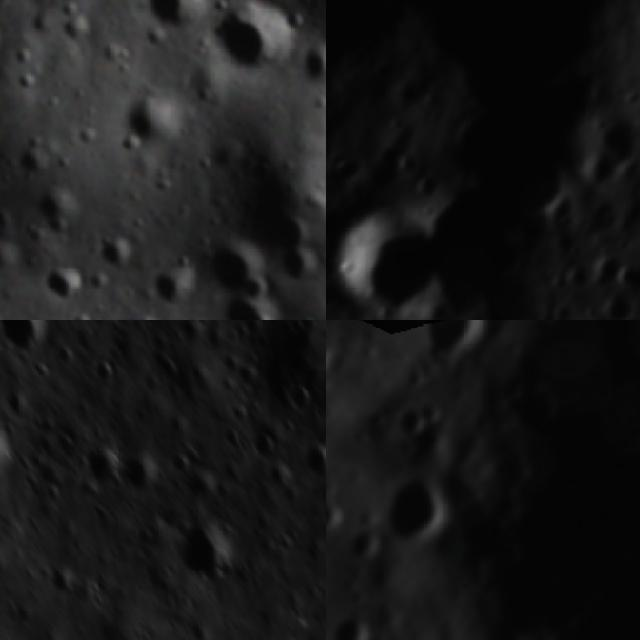crater: (326, 176, 460, 320), (359, 455, 468, 561), (559, 92, 640, 199), (399, 320, 516, 391), (214, 0, 294, 85), (175, 510, 247, 592), (195, 236, 261, 290), (34, 181, 84, 242), (0, 320, 62, 368), (387, 397, 438, 448), (126, 97, 173, 152), (138, 0, 217, 31), (604, 243, 640, 311), (32, 262, 86, 304), (118, 446, 160, 500), (326, 603, 384, 640), (82, 440, 123, 490), (326, 485, 354, 550), (0, 411, 23, 486), (178, 463, 218, 506), (214, 297, 288, 320), (97, 234, 139, 274), (284, 377, 322, 421), (297, 434, 326, 483), (296, 41, 326, 87), (248, 427, 286, 463), (90, 350, 124, 385), (326, 334, 346, 385), (438, 628, 497, 640)
